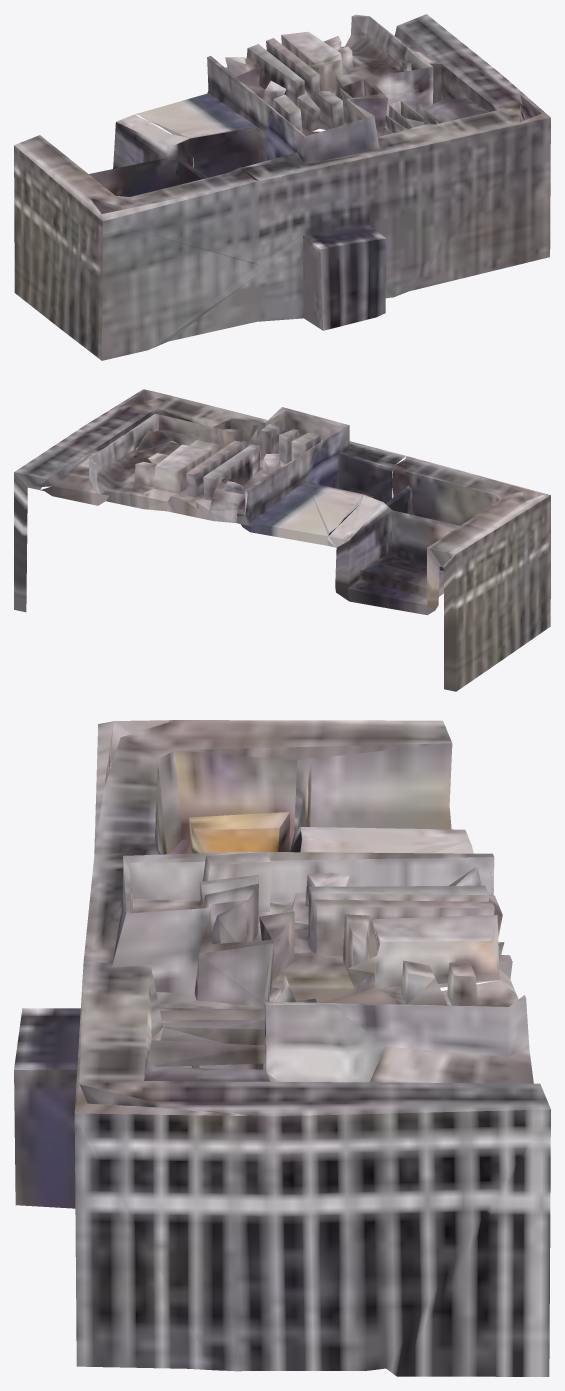
3 renders of one model, top to bottom at view 1: azimuth 30°, elevation 25°; view 2: azimuth 150°, elevation 25°; view 3: azimuth 270°, elevation 25°, orthographic. The views are drawn at different scales.
Visible parts, largest first — view 1: Mesh_0; view 2: Mesh_0; view 3: Mesh_0.
Boxes of the visible parts, x1,y1,x2,y2 form: Mesh_0: (14, 14, 550, 360); Mesh_0: (14, 389, 550, 691); Mesh_0: (14, 720, 550, 1376).
Size of the model in its own units: 33.43 by 12.79 by 19.08.
Materials: 1 (1 with a texture image).
